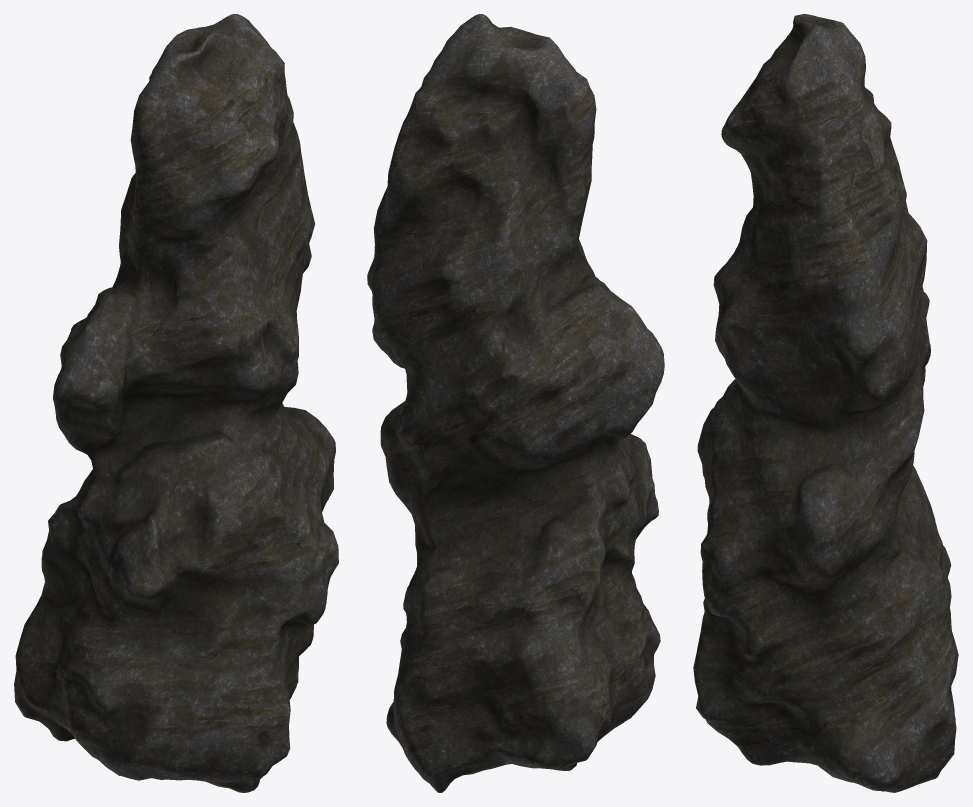
The model's file is set2_rock_09.fbx.
3 views of the same model, side by side, from view 1: azimuth 30°, elevation 25°; view 2: azimuth 150°, elevation 25°; view 3: azimuth 270°, elevation 25° (orthographic). The views are drawn at different scales.
Parts seen in each view (by area): view 1: set2_rock_09; view 2: set2_rock_09; view 3: set2_rock_09.
Part boxes in pixels (x1,y1,x2,y2): set2_rock_09: (14, 14, 338, 792); set2_rock_09: (367, 14, 664, 792); set2_rock_09: (693, 14, 958, 792).
Size of the model in its own units: 125 by 321 by 102.
1 material, 1 textured.
